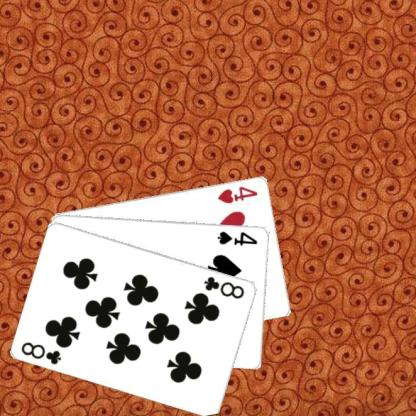4H: (215, 183, 259, 205)
4S: (215, 228, 259, 247)
8C: (18, 338, 64, 366), (202, 274, 246, 300)
